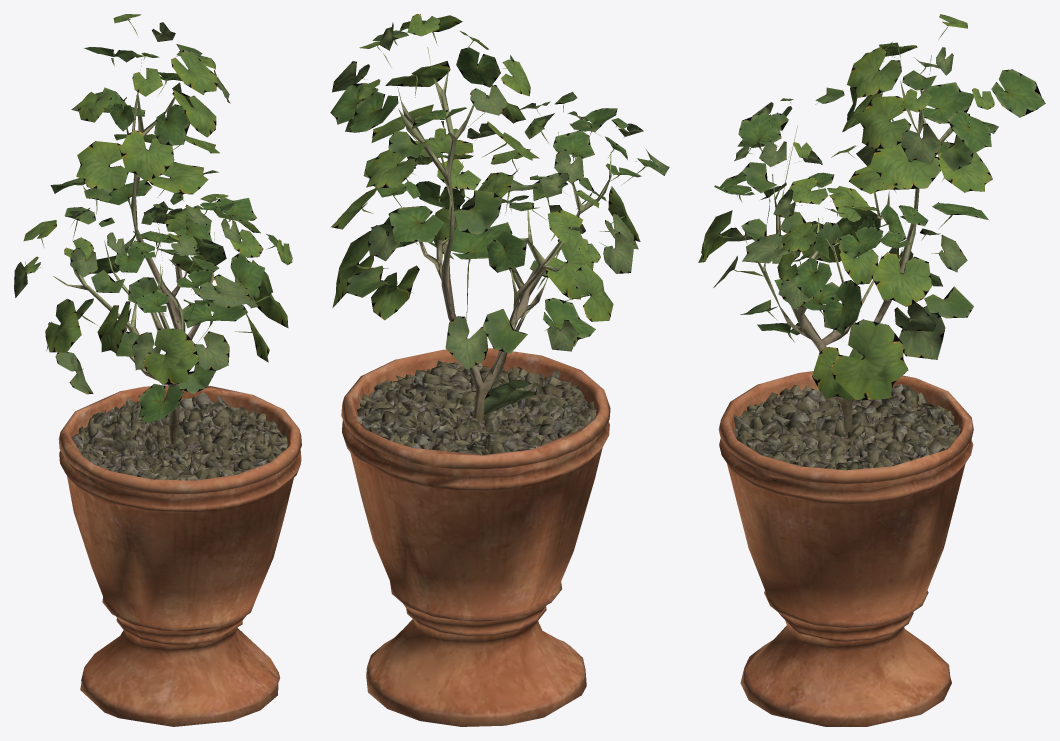
File: potted_plant_01.glb
3 views of the same model, side by side, from view 1: azimuth 30°, elevation 25°; view 2: azimuth 150°, elevation 25°; view 3: azimuth 270°, elevation 25° (orthographic). The views are drawn at different scales.
Visible parts, largest first — view 1: potted_plant_01_pot, potted_plant_01_leaves, potted_plant_01_pebbles, potted_plant_01_stem; view 2: potted_plant_01_pot, potted_plant_01_leaves, potted_plant_01_pebbles, potted_plant_01_stem; view 3: potted_plant_01_pot, potted_plant_01_leaves, potted_plant_01_pebbles, potted_plant_01_stem.
Boxes of the visible parts, left/top/right/bottom form: potted_plant_01_pot: left=58, top=385, right=301, bottom=726; potted_plant_01_leaves: left=14, top=14, right=292, bottom=423; potted_plant_01_pebbles: left=67, top=392, right=287, bottom=493; potted_plant_01_stem: left=53, top=53, right=221, bottom=444; potted_plant_01_pot: left=341, top=348, right=610, bottom=726; potted_plant_01_leaves: left=330, top=14, right=669, bottom=414; potted_plant_01_pebbles: left=356, top=360, right=596, bottom=456; potted_plant_01_stem: left=396, top=47, right=611, bottom=421; potted_plant_01_pot: left=718, top=371, right=973, bottom=726; potted_plant_01_leaves: left=698, top=14, right=1045, bottom=401; potted_plant_01_pebbles: left=733, top=383, right=960, bottom=481; potted_plant_01_stem: left=758, top=55, right=964, bottom=435.
Size of the model in its own units: 0.5846 by 1.33 by 0.6336.
2 materials, 2 textured.
